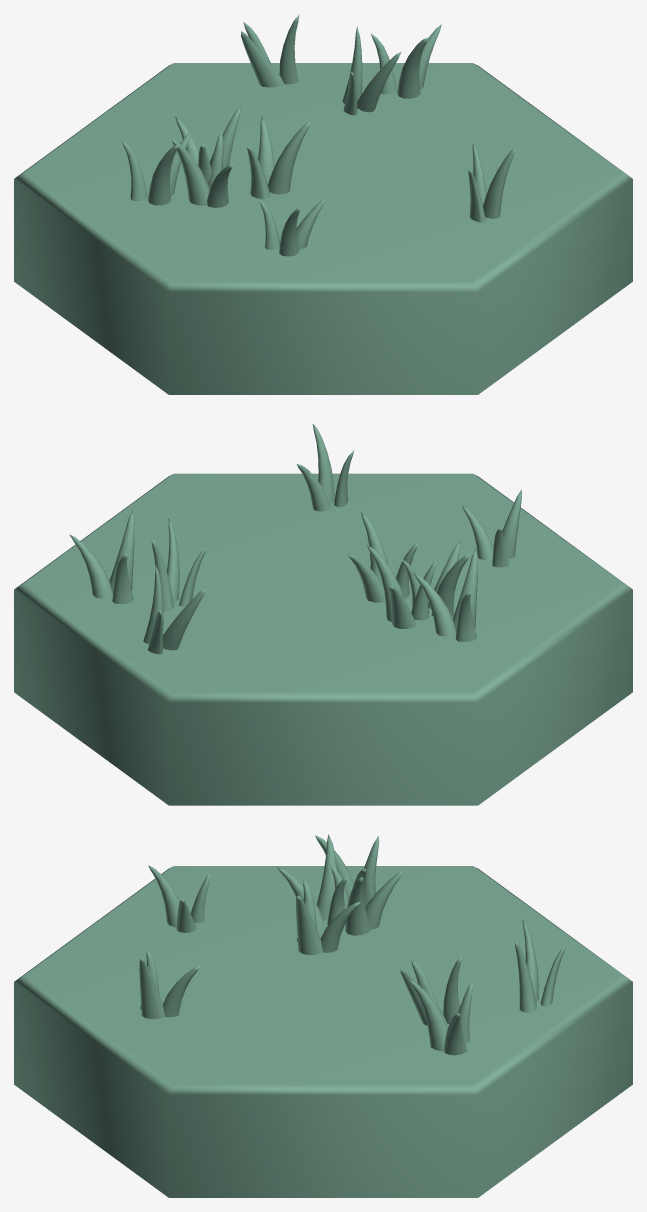
File: 4_grass.fbx
The picture shows the model from 3 angles, top to bottom: view 1: azimuth 30°, elevation 25°; view 2: azimuth 150°, elevation 25°; view 3: azimuth 270°, elevation 25°; orthographic projection.
Visible parts, largest first — view 1: pCone50; view 2: pCone50; view 3: pCone50.
Part boxes in pixels (left/top/right/bottom): pCone50: left=14, top=14, right=632, bottom=394; pCone50: left=14, top=424, right=632, bottom=805; pCone50: left=14, top=834, right=632, bottom=1197.
Size of the model in its own units: 4.05 by 1.5 by 4.68.
